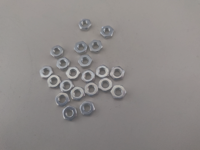nut: (80, 101, 96, 117), (63, 106, 78, 122), (111, 86, 127, 100), (85, 82, 99, 97), (111, 67, 125, 81), (99, 78, 113, 92), (82, 70, 96, 84), (56, 93, 70, 107), (71, 87, 85, 101), (57, 58, 71, 72), (40, 66, 54, 80), (100, 26, 115, 39), (89, 40, 104, 53), (78, 55, 93, 68), (66, 67, 81, 80), (96, 65, 110, 78), (74, 41, 88, 54), (60, 80, 74, 93), (48, 75, 61, 89), (51, 46, 64, 59), (79, 20, 92, 32)
